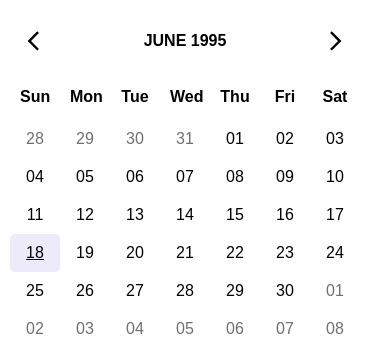
Test case: Calendar › user events › when clicking next month › it goes to next month
Check: the text "June 1995" is shown, box [144,32,226,50]
Click the button named "next month": (336, 41) [306,16,366,66]
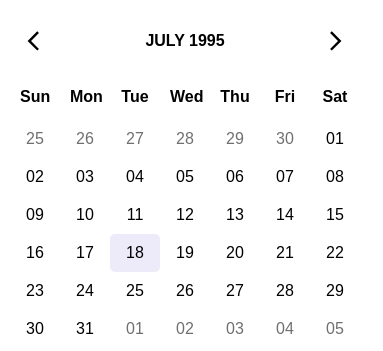
Check: the text "July 1995" is shown, box [145,32,225,50]
